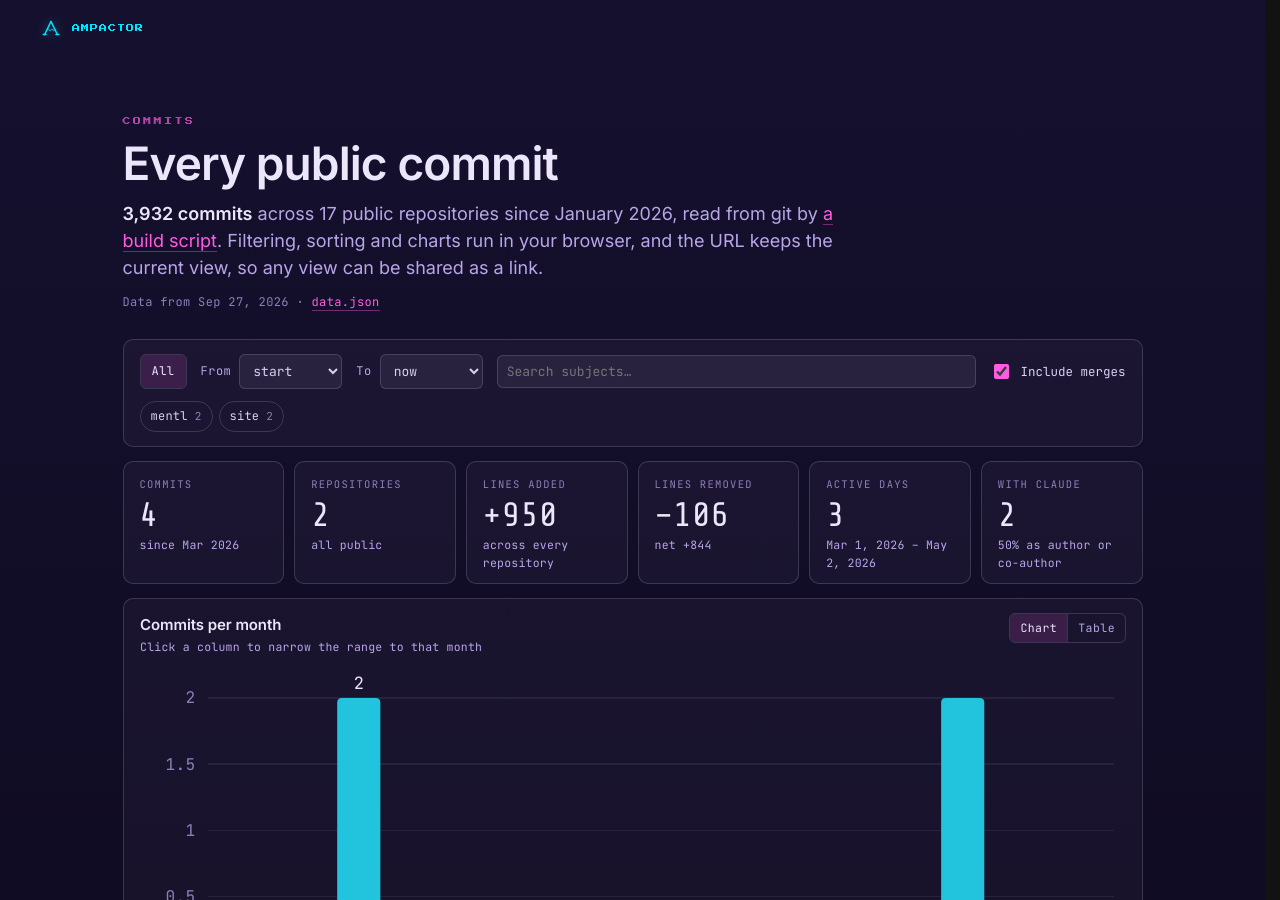
Scenario: ReceiptsApp › writes every control back to the URL and resets to a plain one
Click the button named "mentl 2 commits" at (176, 417), box [140,401,212,432]
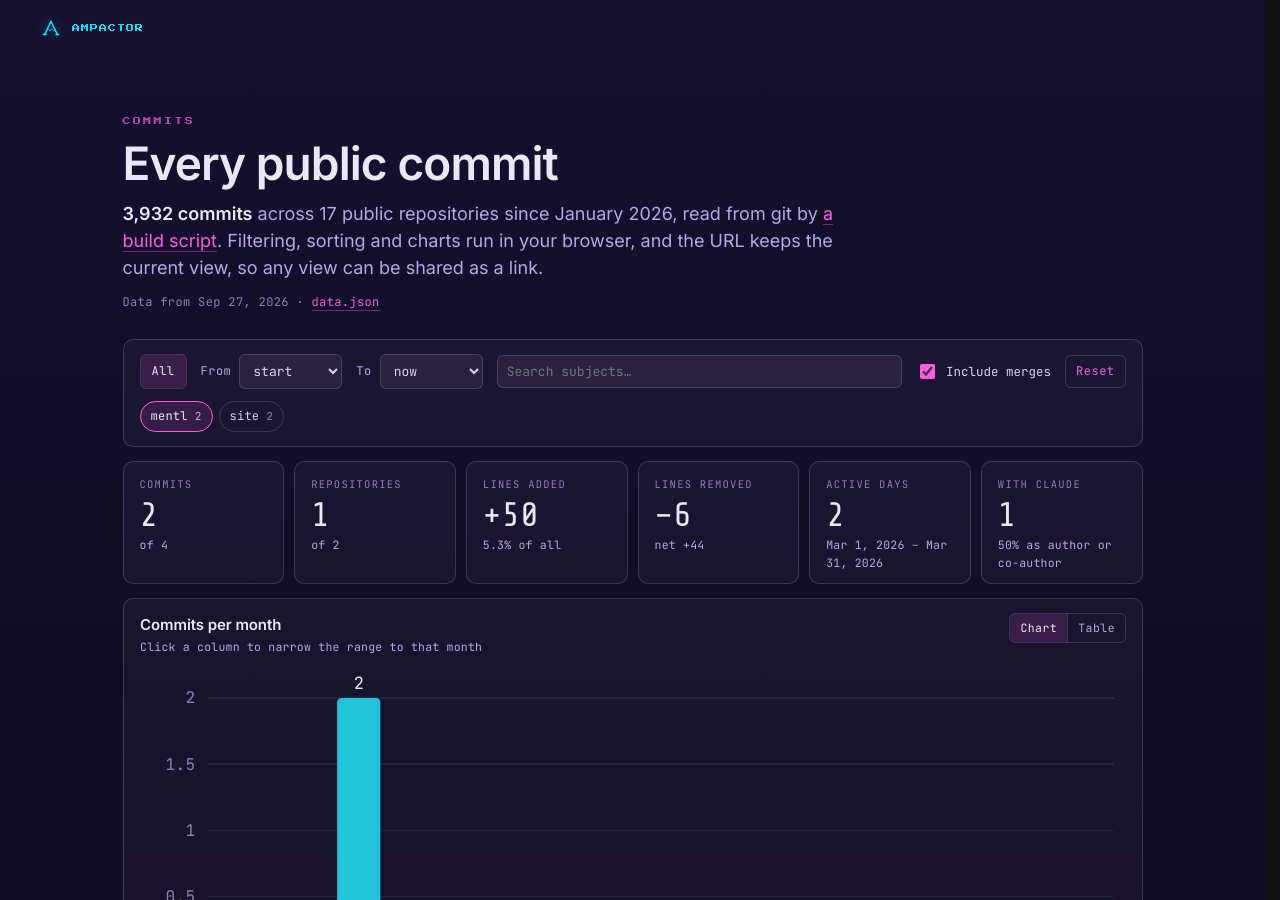
Click the checkbox labelled "Include merges" at (928, 372), box [920,364,935,379]
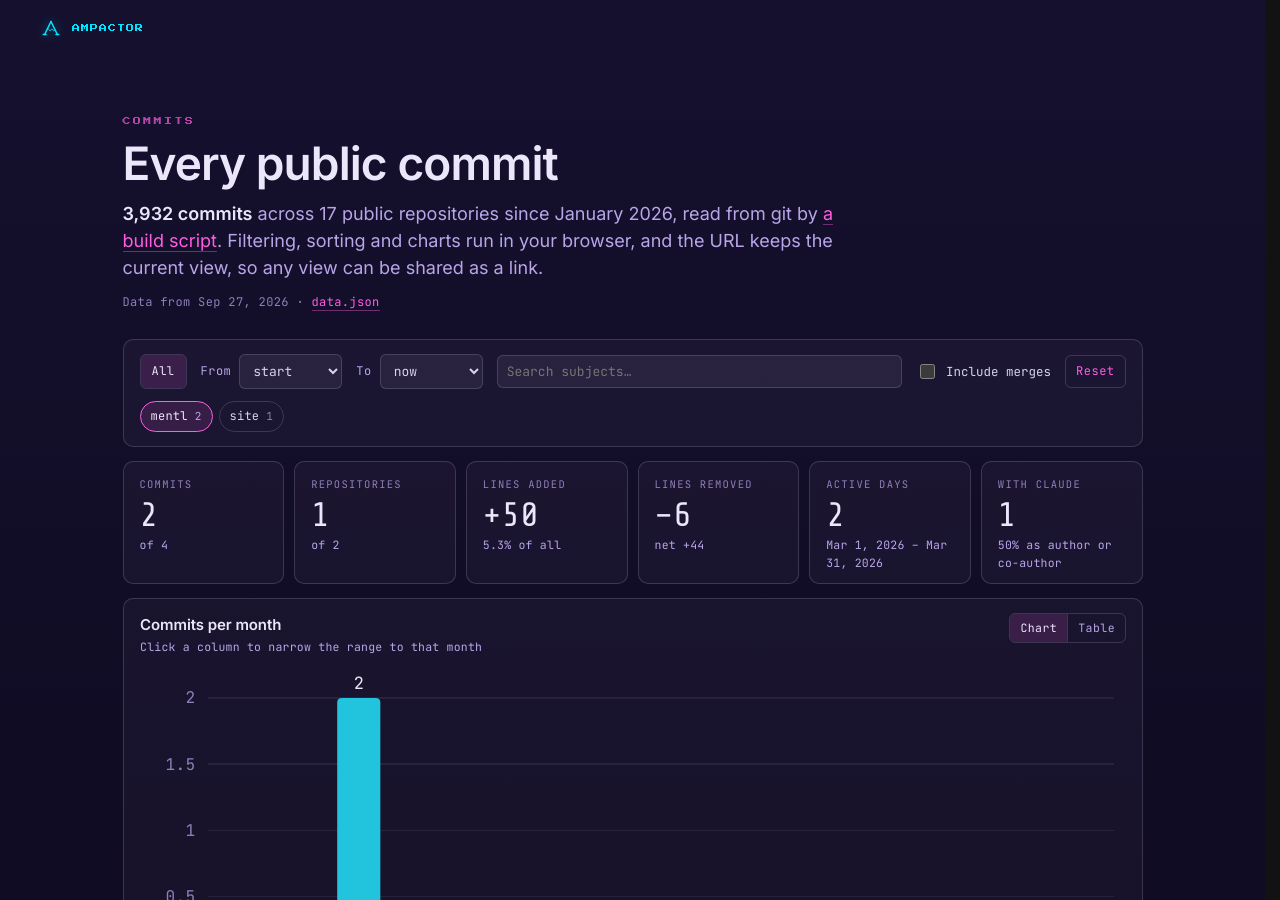
Select "Mar 2026" in the dropdown labelled "From" at (291, 372), box [239,354,342,389]
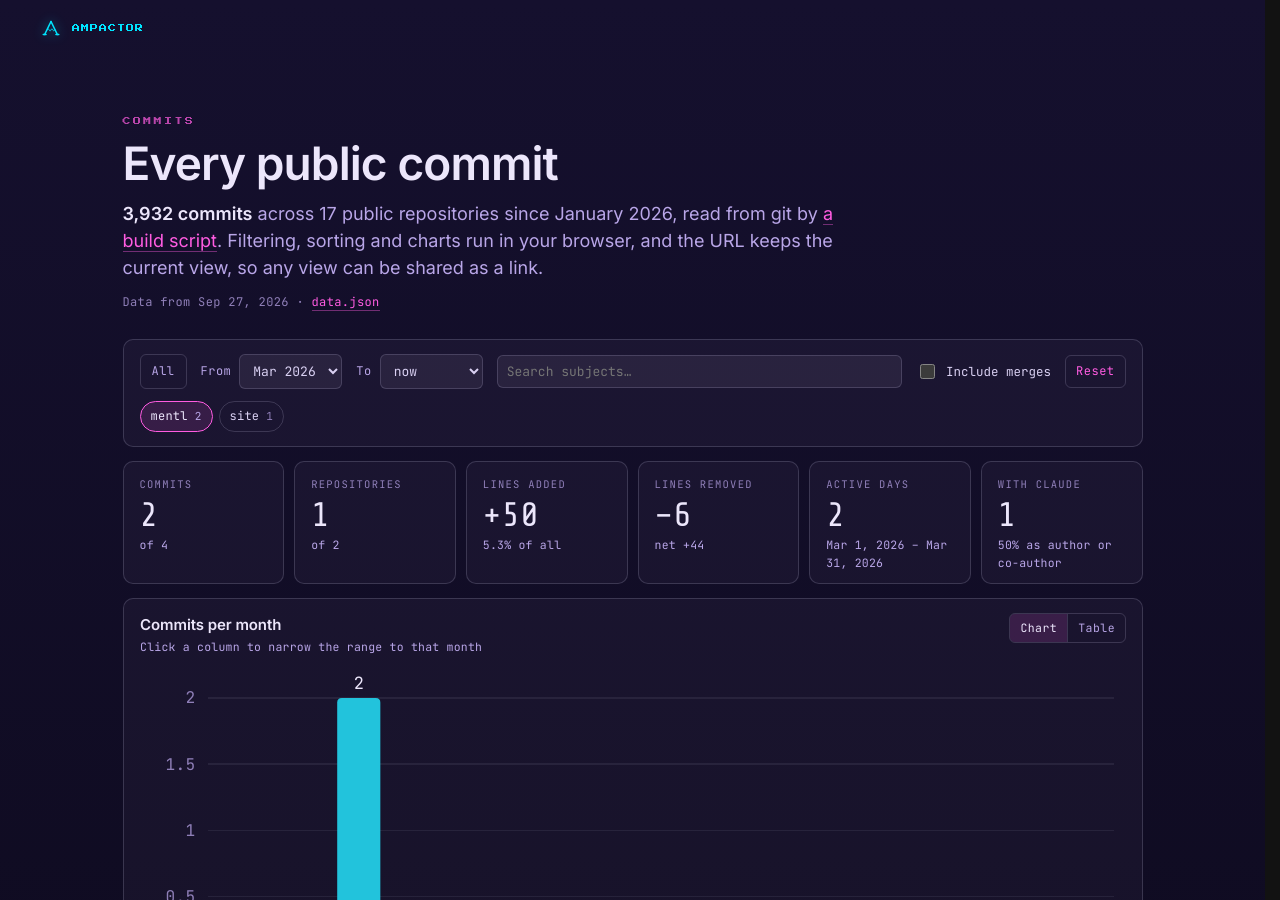
Select "Mar 2026" in the dropdown labelled "To" at (431, 372), box [380,354,483,389]
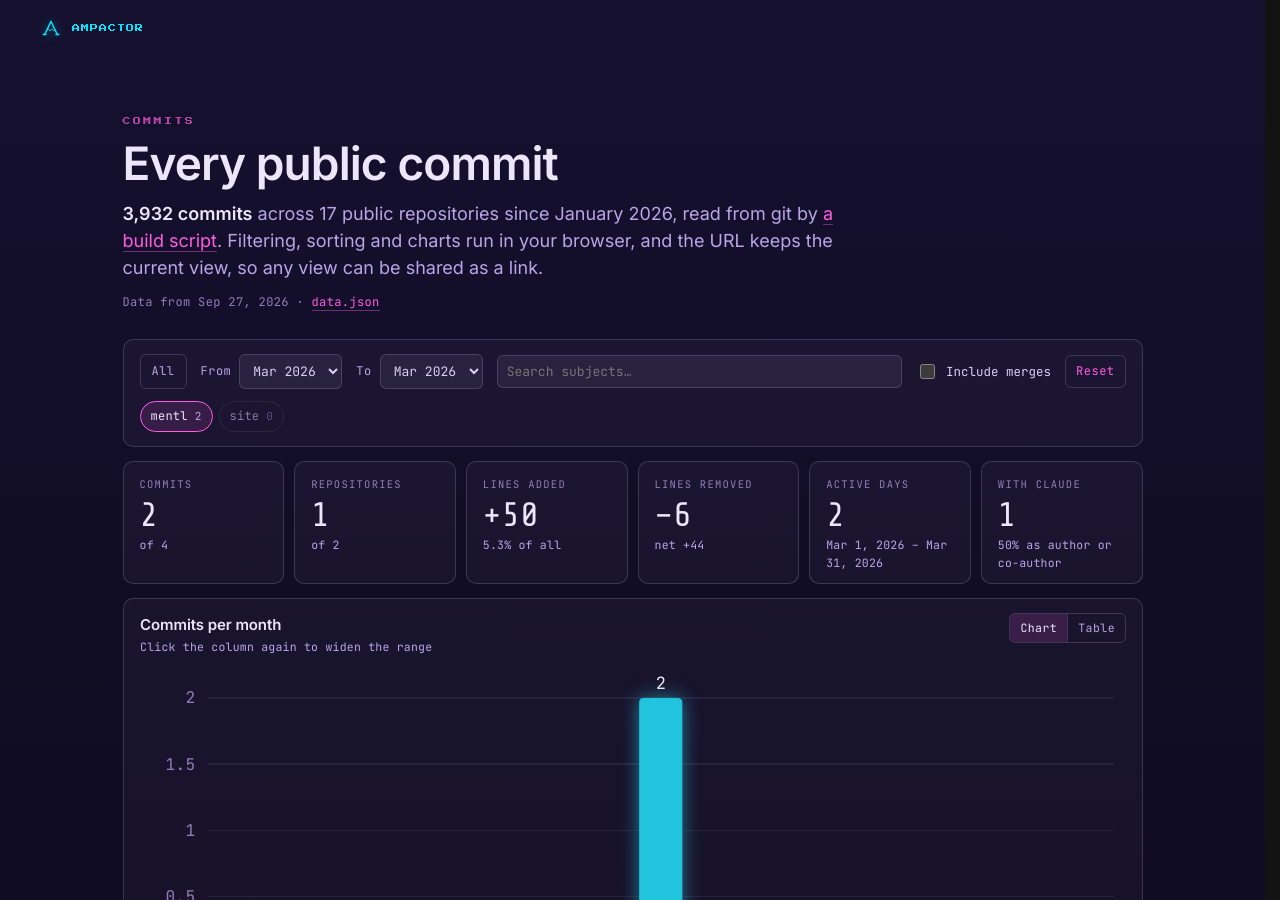
Click the button "Reset" at (1095, 372), box [1065,356,1126,388]
(page scrolled)
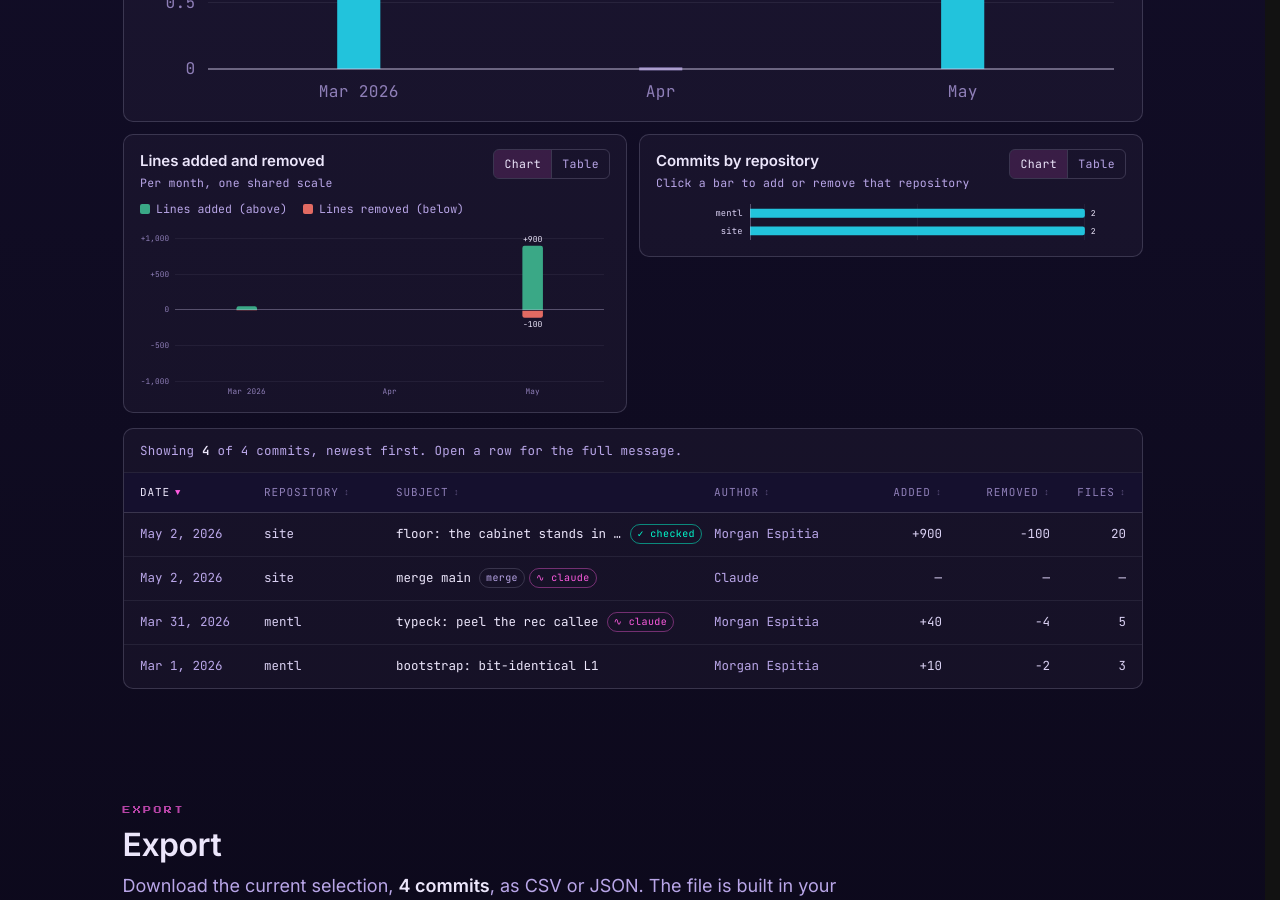
Expected: the text "Showing" shows "Showing 4 of 4", [124,429,1142,473]
